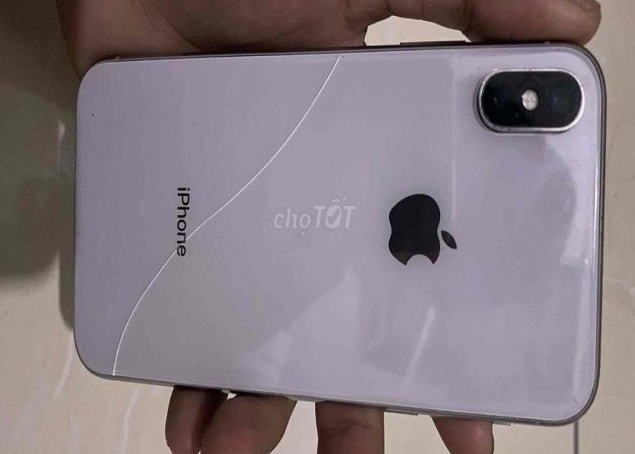physical_damage: (114, 68, 298, 376), (298, 55, 345, 124)
scratch: (477, 72, 490, 93)
